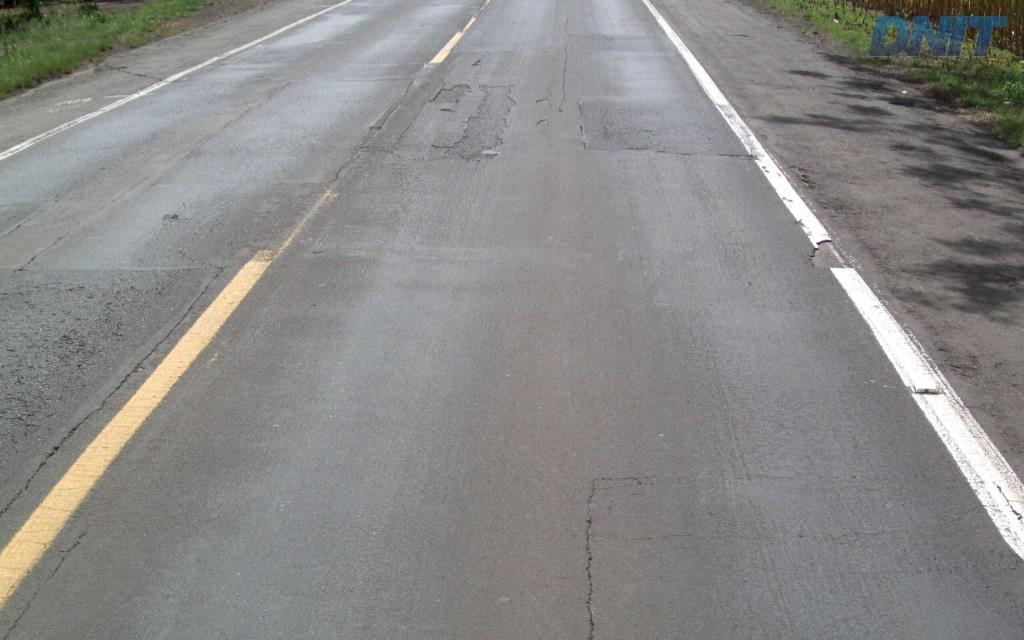crack: (583, 509, 595, 639)
pothole: (421, 74, 516, 162), (466, 53, 490, 69), (530, 92, 553, 107), (532, 116, 552, 128), (436, 107, 459, 113)
